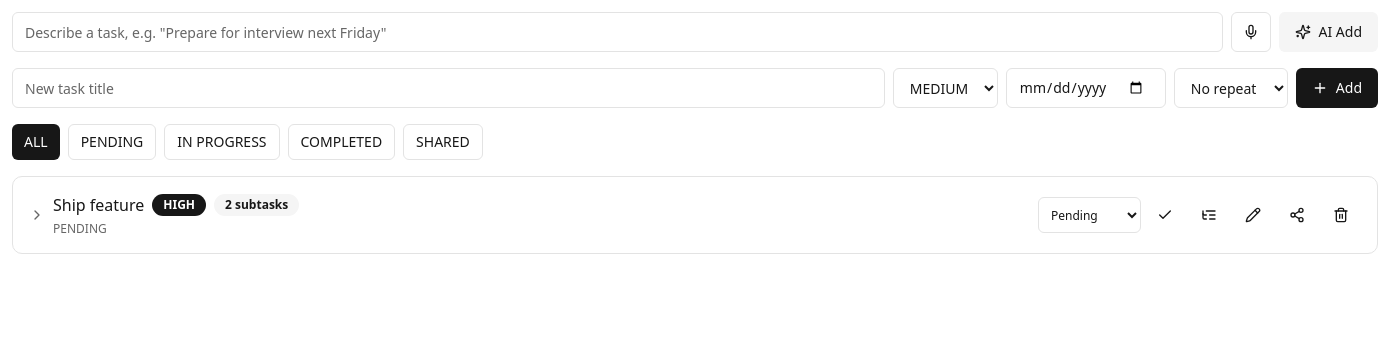
Scenario: TaskList subtasks › shows an AI Break Down action and reveals nested subtasks on expand
The image size is (1390, 363).
Expected: the number of buttons named "AI Break Down" is 1, [1189,195,1229,235]
Expected: the text "Write tests" is not shown
Click the button named "Expand subtasks": coordinates (37, 215) [29,207,45,223]
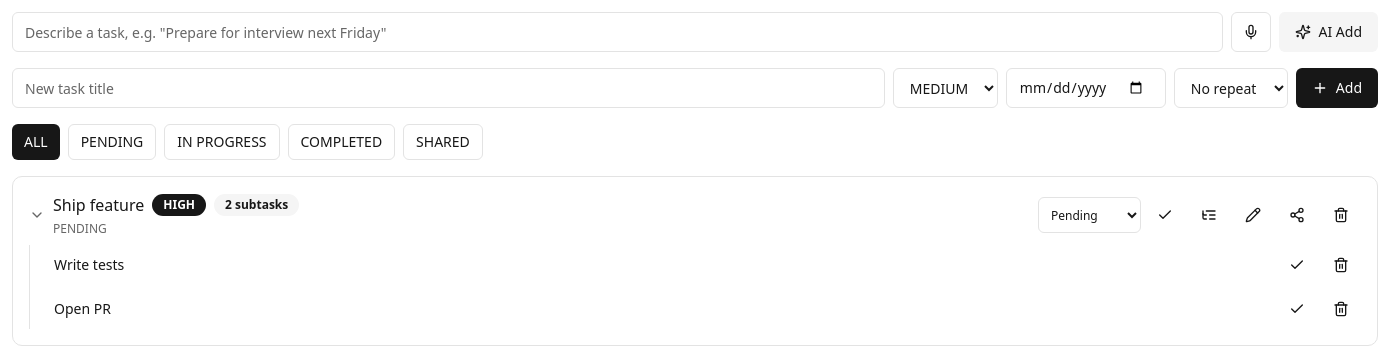
Expected: the text "Write tests" is shown, [54,255,124,275]
Expected: the text "Open PR" is shown, [54,299,111,319]
